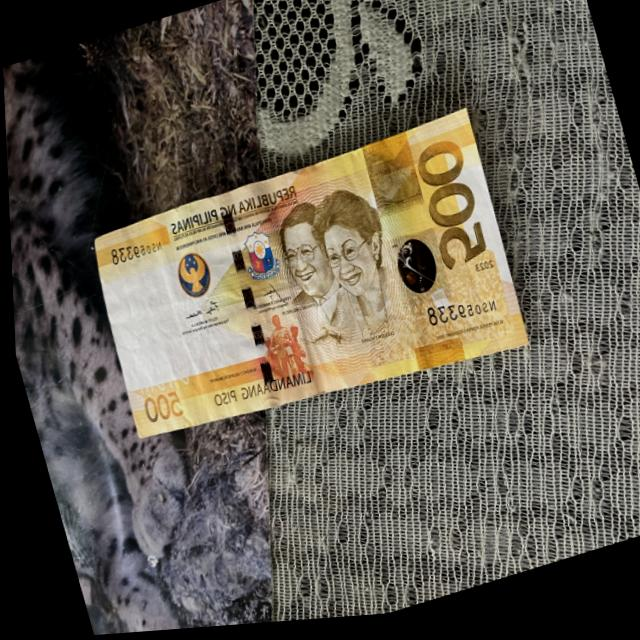concealed_value: (358, 136, 423, 223)
optically_variable_device: (388, 238, 440, 305)
security_thread: (209, 191, 282, 413)
see_through_mark: (131, 367, 187, 400)
serial_number: (415, 286, 504, 347), (98, 226, 171, 276)
value: (407, 140, 490, 280)
value_watermark: (123, 333, 144, 371)
watermark: (95, 242, 210, 400)
